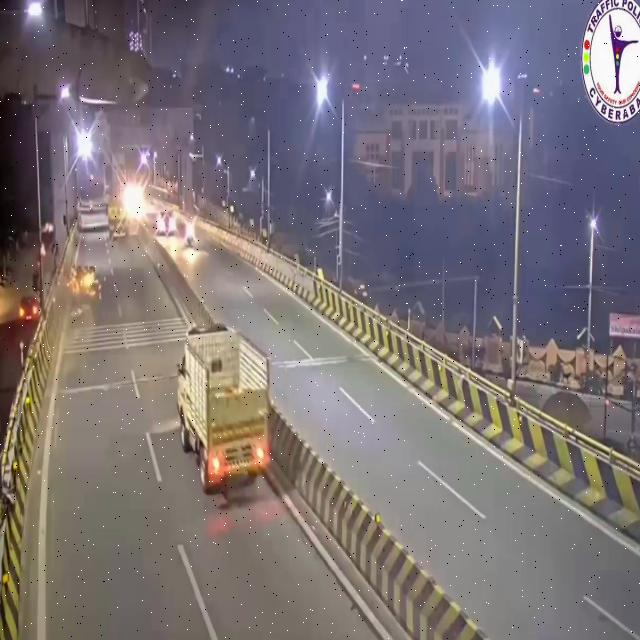accident: (60, 254, 109, 307)
